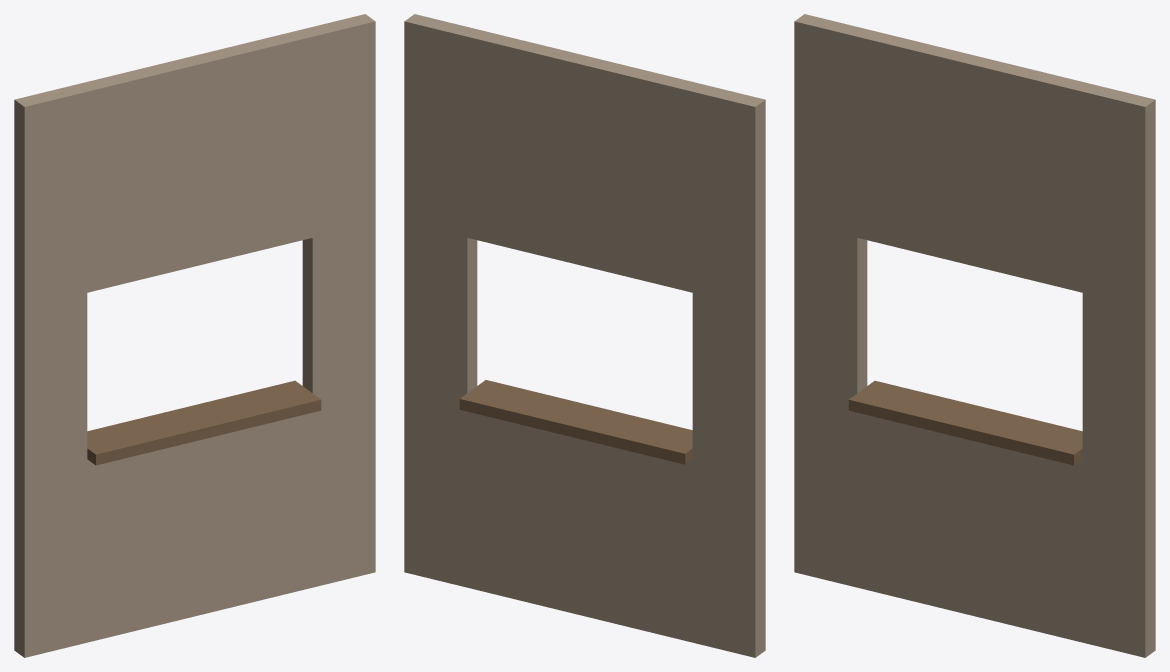
File: Mesh_Wall_B3.fbx
The picture shows the model from 3 angles, left to right: view 1: azimuth 30°, elevation 25°; view 2: azimuth 150°, elevation 25°; view 3: azimuth 330°, elevation 25°; orthographic projection.
Parts seen in each view (by area): view 1: Mesh_Wall_B3; view 2: Mesh_Wall_B3; view 3: Mesh_Wall_B3.
Boxes of the visible parts, left/top/right/bottom form: Mesh_Wall_B3: left=14, top=14, right=375, bottom=657; Mesh_Wall_B3: left=404, top=14, right=765, bottom=657; Mesh_Wall_B3: left=794, top=14, right=1155, bottom=657.
Bounding box in the file's own units: 2 × 3 × 0.2574.
